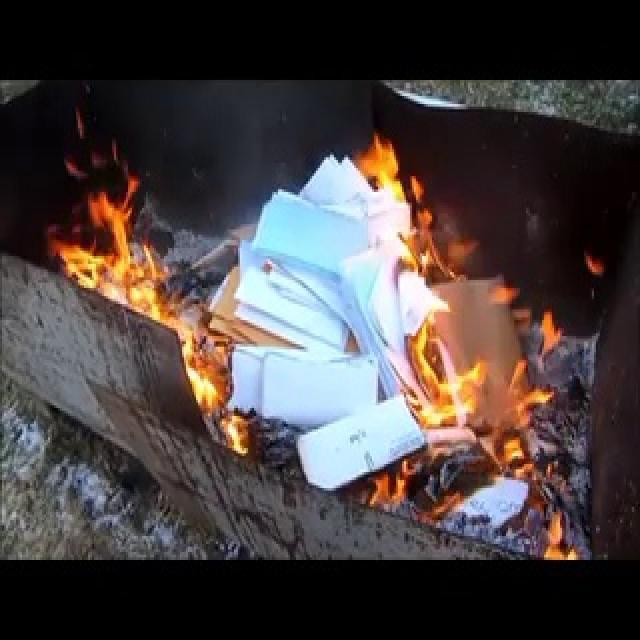fire: (369, 138, 533, 482), (35, 125, 183, 328)
